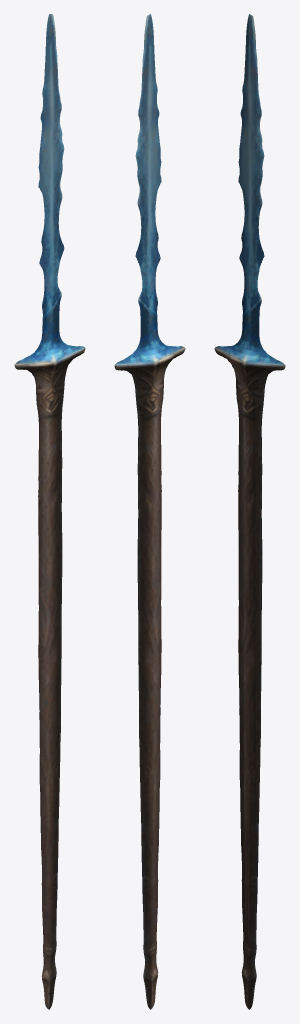
The model's file is water_spear.glb.
3 views of the same model, side by side, from view 1: azimuth 30°, elevation 25°; view 2: azimuth 210°, elevation 25°; view 3: azimuth 330°, elevation 25° (orthographic).
Parts seen in each view (by area): view 1: Grid; view 2: Grid; view 3: Grid.
Part boxes in pixels (x1=…): Grid: x1=14, y1=14, x2=85, y2=1009; Grid: x1=114, y1=14, x2=185, y2=1009; Grid: x1=214, y1=14, x2=285, y2=1009.
Bounding box in the file's own units: 0.5475 × 7.31 × 0.1545.
Materials: 1 (1 with a texture image).
